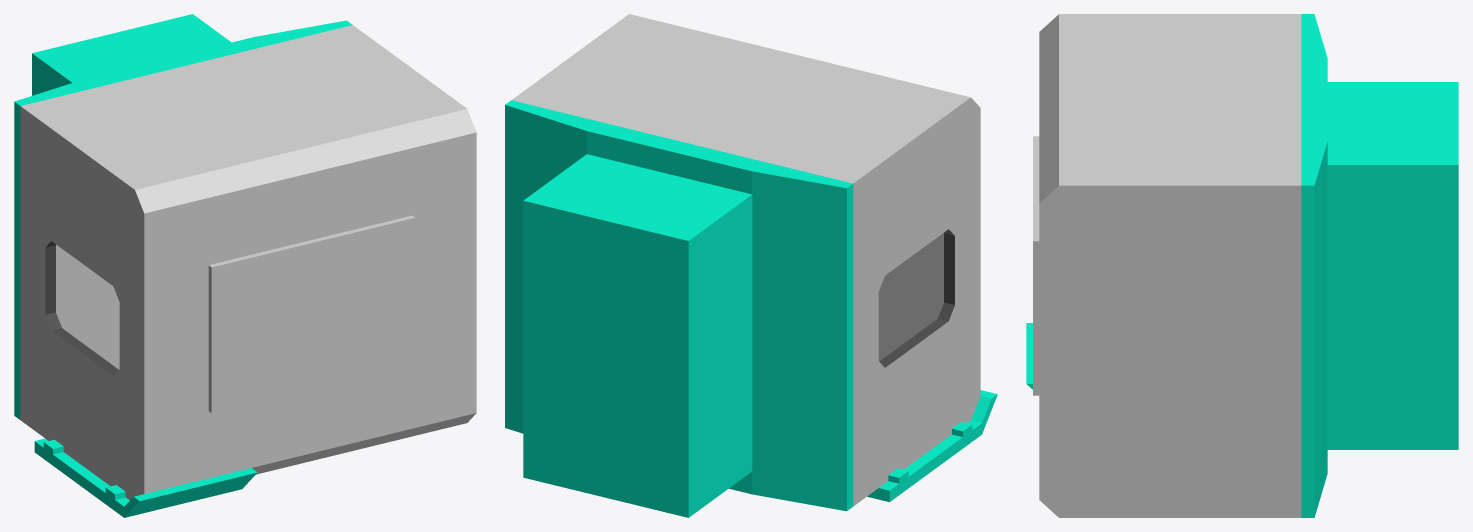
File: cnc_vertical_machining_center_1_state_1.dae
The picture shows the model from 3 angles, left to right: view 1: azimuth 30°, elevation 25°; view 2: azimuth 150°, elevation 25°; view 3: azimuth 270°, elevation 25°; orthographic projection. The views are drawn at different scales.
Visible parts, largest first — view 1: coords_ME_ID31_MA_material_8, coords_ME_ID45_MA_material_8, coords_ME_ID25_MA_material_17, coords_ME_ID11_MA_material_17, coords_ME_ID19_MA_material; view 2: coords_ME_ID25_MA_material_17, coords_ME_ID31_MA_material_8, coords_ME_ID11_MA_material_17, coords_ME_ID19_MA_material; view 3: coords_ME_ID31_MA_material_8, coords_ME_ID25_MA_material_17, coords_ME_ID45_MA_material_8.
Part boxes in pixels (x1,y1,x2,y2): coords_ME_ID31_MA_material_8: (20,25,476,499); coords_ME_ID45_MA_material_8: (208,215,415,413); coords_ME_ID25_MA_material_17: (14,14,352,419); coords_ME_ID11_MA_material_17: (34,438,257,517); coords_ME_ID19_MA_material: (45,241,118,375); coords_ME_ID25_MA_material_17: (505,100,853,517); coords_ME_ID31_MA_material_8: (511,14,980,506); coords_ME_ID11_MA_material_17: (867,390,997,502); coords_ME_ID19_MA_material: (879,229,954,367); coords_ME_ID31_MA_material_8: (1039,14,1301,517); coords_ME_ID25_MA_material_17: (1301,14,1458,517); coords_ME_ID45_MA_material_8: (1033,136,1039,395).
Bounding box in the file's own units: 25.2 × 22.83 × 25.98.
